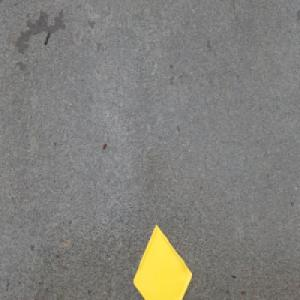PlasticPart: (131, 223, 193, 300)
